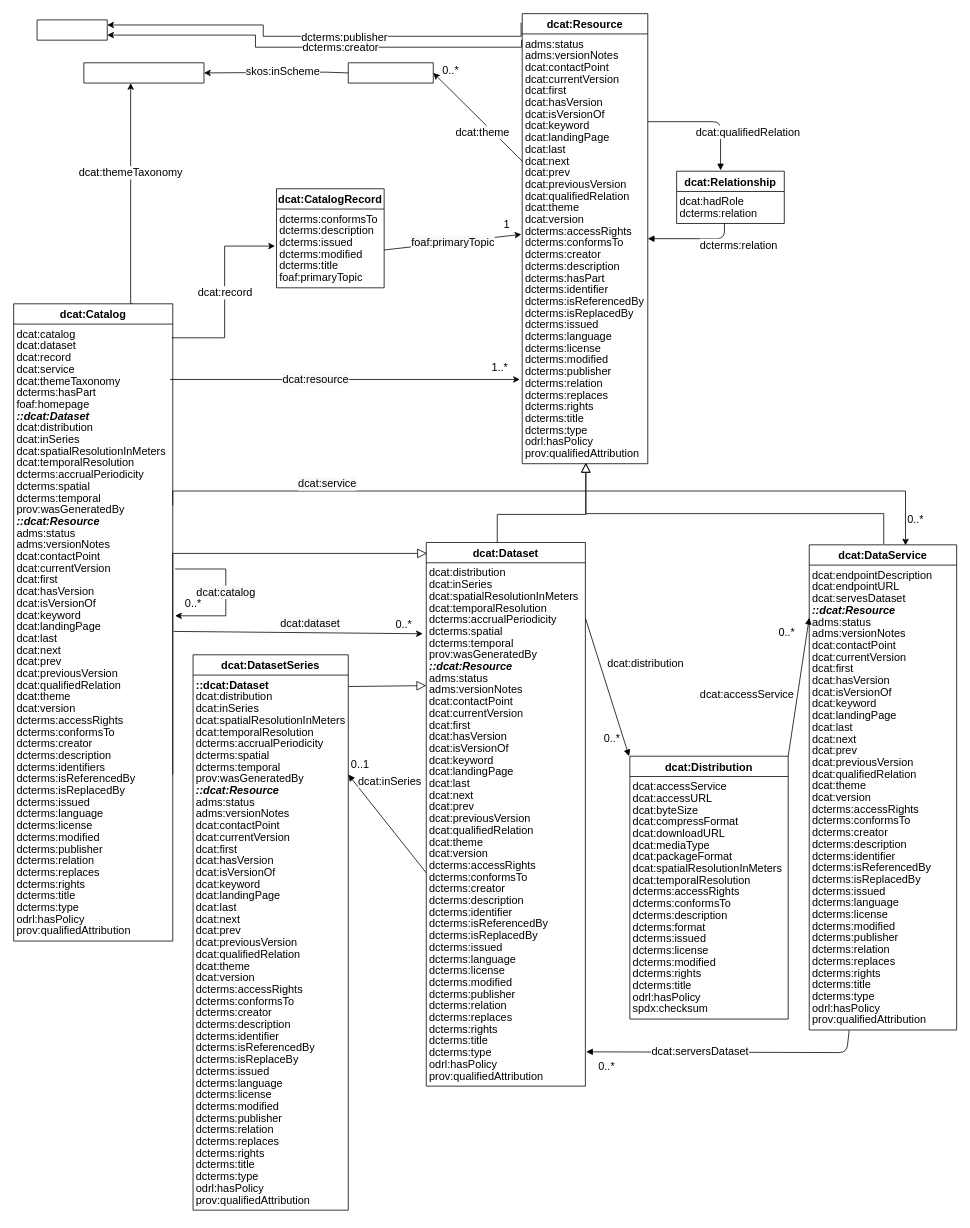
Image size: 970x1228. Some labels were removed from this diagram. Each missing label, with the centre of its shape:
"foaf:Agent" goes at (x=71, y=29).
"skos:Concept" goes at (x=390, y=72).
"skos:ConceptScheme" goes at (x=143, y=72).
